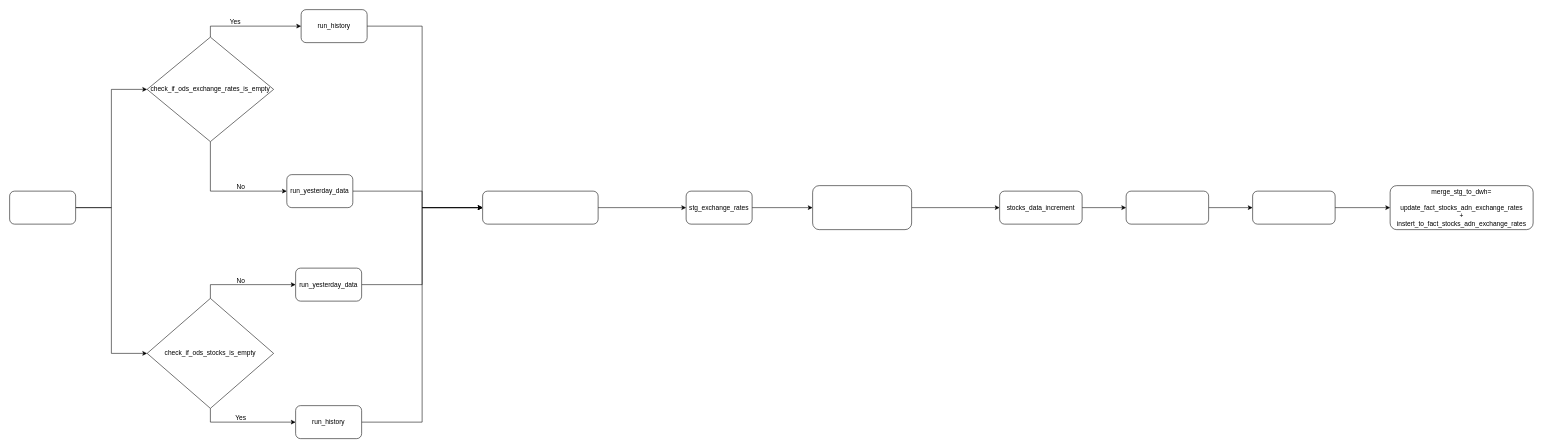
Some shapes in this 1543 by 448 pixel diagram are drawn without their labels. Here are the shapes that lost their labels. From the top down, the centre of each, then its label:
At (42,207): "start".
At (540,207): "exchange_rates_increment_for_dim".
At (862,207): "merge_stg_to_dwh= update_dim_exchange_rates + instert_to_dim_exchange_rates".
At (1167,207): "stg_stocks".
At (1293,207): "final_stg".
